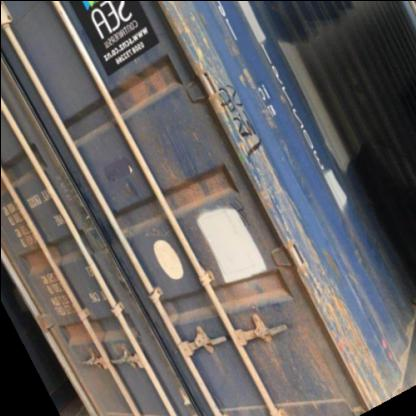Damage: (306, 268, 370, 390), (219, 77, 266, 173), (102, 53, 176, 105), (218, 264, 282, 308), (17, 234, 69, 276), (62, 309, 102, 341)
